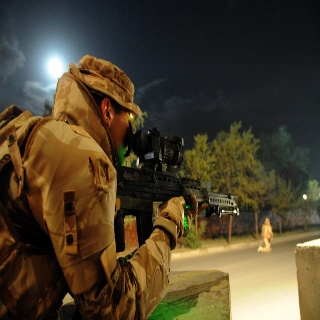rifle: (114, 126, 241, 250)
